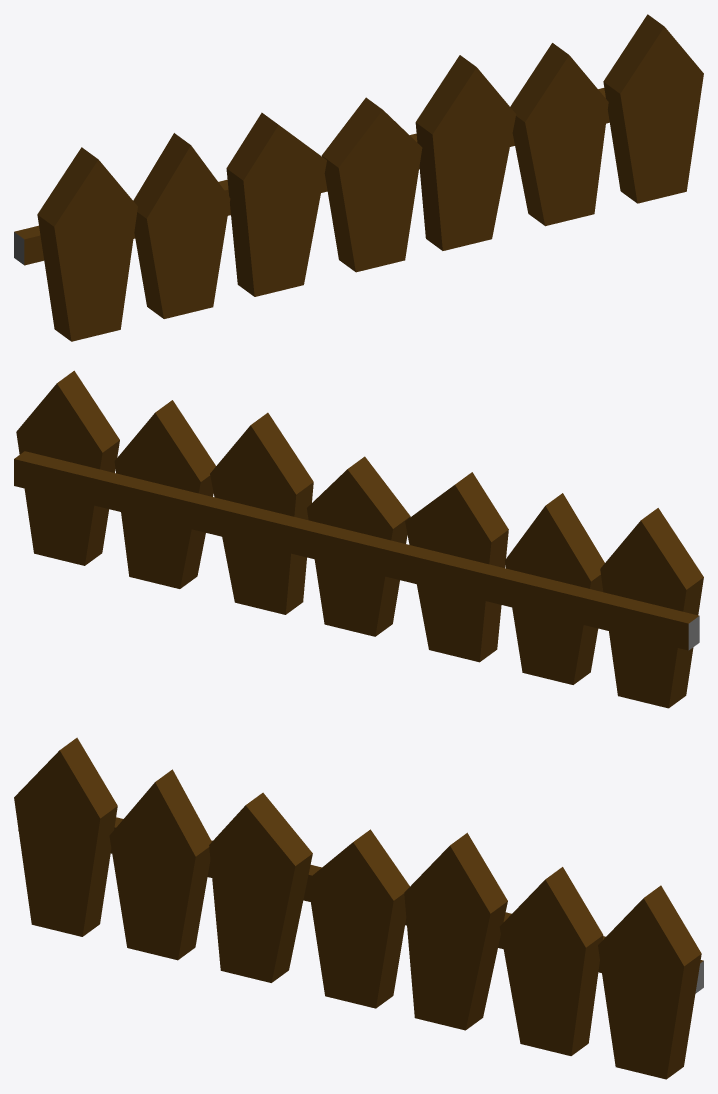
File: mod_fence.fbx
3 renders of one model, top to bottom at view 1: azimuth 30°, elevation 25°; view 2: azimuth 150°, elevation 25°; view 3: azimuth 330°, elevation 25°, orthographic. The views are drawn at different scales.
Parts seen in each view (by area): view 1: mod_fence; view 2: mod_fence; view 3: mod_fence.
Boxes of the visible parts, <box> form: mod_fence: <box>14,14,703,341</box>; mod_fence: <box>14,370,703,708</box>; mod_fence: <box>14,737,703,1079</box>.
Bounding box in the file's own units: 9.02 × 2.29 × 0.6488.
